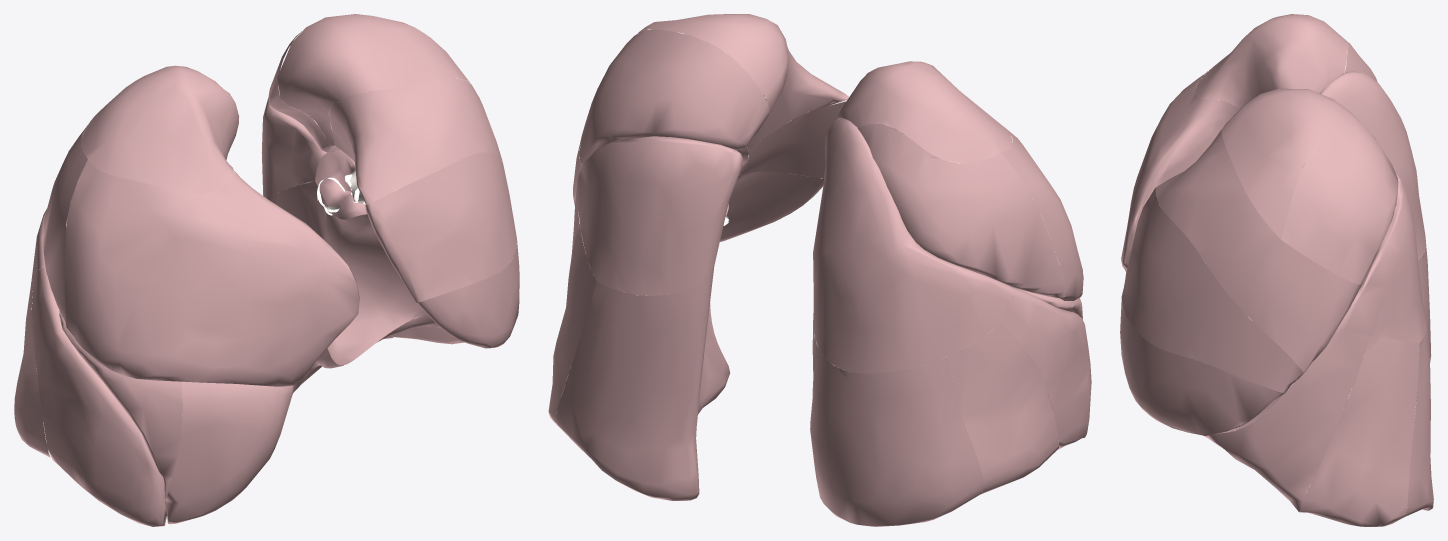
Rendered from 3d-vh-f-lung-20.glb.
3 views of the same model, side by side, from view 1: azimuth 30°, elevation 25°; view 2: azimuth 150°, elevation 25°; view 3: azimuth 270°, elevation 25° (orthographic). The views are drawn at different scales.
Visible parts, largest first — view 1: VH_F_right_anterior_bronchopulmonary_segm, VH_F_right_anterior_basal_bronchopulmonary_segment, VH_F_lingula_superior_bronchopulmonary_segment, VH_F_right_apical_bronchopulmonary_segment, VH_F_left_anterior_bronchopulmonary_segment, VH_F_left_apical_bronchopulmonary_segment, VH_F_right_medial_bronchopulmonary_segment, VH_F_left_medial_basal_bronchopulmonary_segment, VH_F_lingula_inferior_bronchopulmonary_segment, VH_F_right_lateral_bronchopulmonary_segmennt, VH_F_left_superior_bronchopulmonary_segment, VH_F_right_posterior_bronchopulmonary_segment (+6 smaller); view 2: VH_F_right_superior_bronchopulmonary_segment, VH_F_left_posterior_basal_bronchopulmonary_segment, VH_F_right_posterior_basal_bronchopulmonary_segment, VH_F_left_superior_bronchopulmonary_segment, VH_F_right_posterior_bronchopulmonary_segment, VH_F_left_posterior_bronchopulmonary_segment, VH_F_right_lateral_basal_bronchopulmonary_segment, VH_F_right_apical_bronchopulmonary_segment, VH_F_right_anterior_basal_bronchopulmonary_segment, VH_F_left_apical_bronchopulmonary_segment, VH_F_lingula_inferior_bronchopulmonary_segment, VH_F_lingula_superior_bronchopulmonary_segment (+3 smaller); view 3: VH_F_left_anterior_bronchopulmonary_segment, VH_F_lingula_superior_bronchopulmonary_segment, VH_F_left_lateral_basal_bronchopulmonary_segment, VH_F_left_posterior_bronchopulmonary_segment, VH_F_left_anterior_basal_bronchopulmonary_segment, VH_F_lingula_inferior_bronchopulmonary_segment, VH_F_left_apical_bronchopulmonary_segment, VH_F_right_apical_bronchopulmonary_segment, VH_F_left_superior_bronchopulmonary_segment, VH_F_right_anterior_bronchopulmonary_segm, VH_F_right_superior_bronchopulmonary_segment, VH_F_left_posterior_basal_bronchopulmonary_segment (+2 smaller).
Part boxes in pixels (x1=…): VH_F_right_anterior_bronchopulmonary_segm: x1=64, y1=159, x2=359, y2=386; VH_F_right_anterior_basal_bronchopulmonary_segment: x1=32, y1=266, x2=182, y2=526; VH_F_lingula_superior_bronchopulmonary_segment: x1=365, y1=152, x2=516, y2=302; VH_F_right_apical_bronchopulmonary_segment: x1=81, y1=65, x2=239, y2=193; VH_F_left_anterior_bronchopulmonary_segment: x1=329, y1=79, x2=502, y2=204; VH_F_left_apical_bronchopulmonary_segment: x1=277, y1=14, x2=469, y2=145; VH_F_right_medial_bronchopulmonary_segment: x1=164, y1=381, x2=293, y2=524; VH_F_left_medial_basal_bronchopulmonary_segment: x1=324, y1=170, x2=438, y2=365; VH_F_lingula_inferior_bronchopulmonary_segment: x1=416, y1=241, x2=519, y2=348; VH_F_right_lateral_bronchopulmonary_segmennt: x1=59, y1=311, x2=182, y2=498; VH_F_left_superior_bronchopulmonary_segment: x1=261, y1=85, x2=334, y2=197; VH_F_right_posterior_bronchopulmonary_segment: x1=43, y1=126, x2=87, y2=325; VH_F_right_superior_bronchopulmonary_segment: x1=813, y1=117, x2=1013, y2=373; VH_F_left_posterior_basal_bronchopulmonary_segment: x1=556, y1=266, x2=729, y2=500; VH_F_right_posterior_basal_bronchopulmonary_segment: x1=810, y1=320, x2=983, y2=526; VH_F_left_superior_bronchopulmonary_segment: x1=576, y1=136, x2=742, y2=295; VH_F_right_posterior_bronchopulmonary_segment: x1=857, y1=124, x2=1064, y2=297; VH_F_left_posterior_bronchopulmonary_segment: x1=579, y1=29, x2=769, y2=164; VH_F_right_lateral_basal_bronchopulmonary_segment: x1=948, y1=323, x2=1059, y2=494; VH_F_right_apical_bronchopulmonary_segment: x1=837, y1=61, x2=1012, y2=163; VH_F_right_anterior_basal_bronchopulmonary_segment: x1=1000, y1=286, x2=1091, y2=449; VH_F_left_apical_bronchopulmonary_segment: x1=638, y1=14, x2=788, y2=112; VH_F_lingula_inferior_bronchopulmonary_segment: x1=720, y1=171, x2=823, y2=241; VH_F_lingula_superior_bronchopulmonary_segment: x1=578, y1=101, x2=846, y2=210; VH_F_left_anterior_bronchopulmonary_segment: x1=1155, y1=130, x2=1362, y2=372; VH_F_lingula_superior_bronchopulmonary_segment: x1=1121, y1=188, x2=1303, y2=393; VH_F_left_lateral_basal_bronchopulmonary_segment: x1=1300, y1=335, x2=1419, y2=526; VH_F_left_posterior_bronchopulmonary_segment: x1=1281, y1=100, x2=1398, y2=284; VH_F_left_anterior_basal_bronchopulmonary_segment: x1=1203, y1=330, x2=1370, y2=512; VH_F_lingula_inferior_bronchopulmonary_segment: x1=1120, y1=300, x2=1284, y2=435; VH_F_left_apical_bronchopulmonary_segment: x1=1221, y1=88, x2=1334, y2=239; VH_F_right_apical_bronchopulmonary_segment: x1=1195, y1=14, x2=1349, y2=109; VH_F_left_superior_bronchopulmonary_segment: x1=1335, y1=173, x2=1426, y2=342; VH_F_right_anterior_bronchopulmonary_segm: x1=1121, y1=69, x2=1239, y2=272; VH_F_right_superior_bronchopulmonary_segment: x1=1303, y1=71, x2=1425, y2=259; VH_F_left_posterior_basal_bronchopulmonary_segment: x1=1405, y1=326, x2=1433, y2=516.
Bounding box in the file's own units: 0.2512 × 0.223 × 0.1527.
